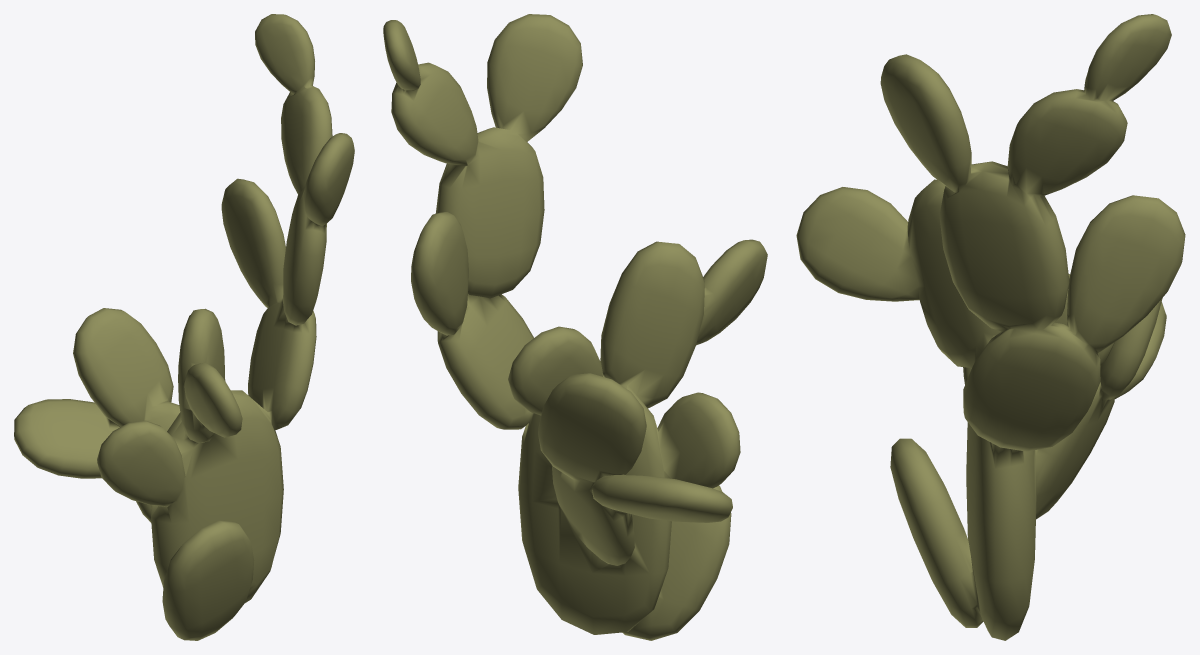
The model's file is cactus_petit.fbx.
3 views of the same model, side by side, from view 1: azimuth 30°, elevation 25°; view 2: azimuth 150°, elevation 25°; view 3: azimuth 270°, elevation 25° (orthographic). The views are drawn at different scales.
Parts seen in each view (by area): view 1: Cube.005; view 2: Cube.005; view 3: Cube.005.
Part boxes in pixels (left/top/right/bottom): Cube.005: left=14, top=14, right=354, bottom=640; Cube.005: left=383, top=14, right=767, bottom=640; Cube.005: left=796, top=14, right=1185, bottom=640.
Bounding box in the file's own units: 86.58 × 152 × 76.79.
